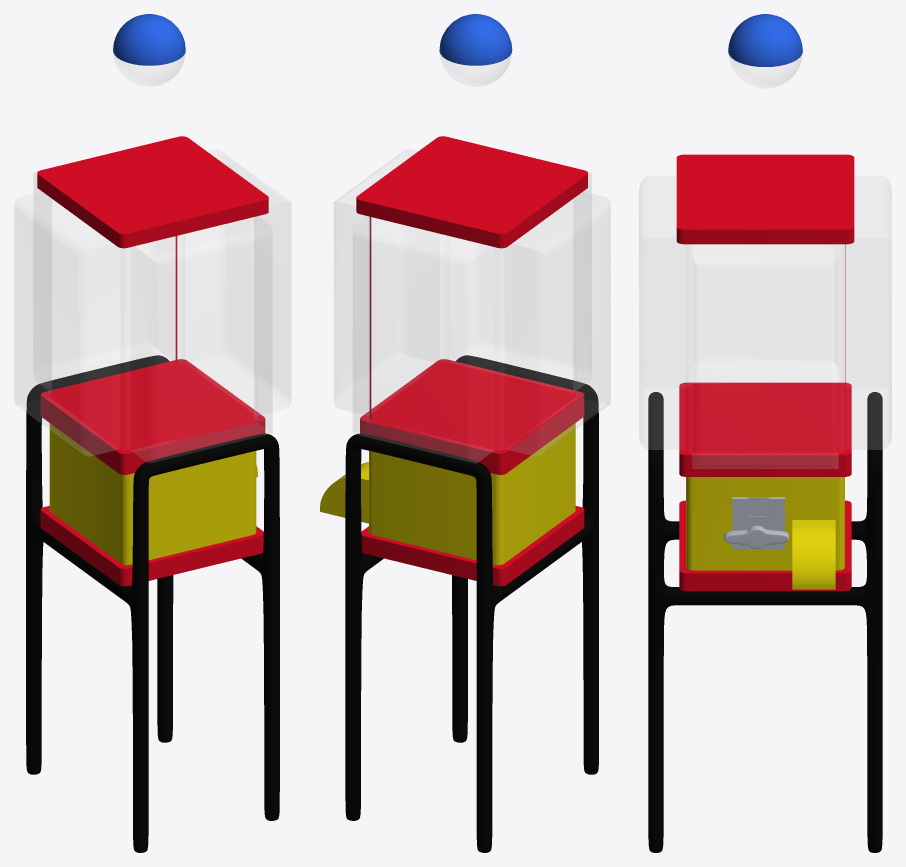
The model's file is CapsuleMeachine.fbx.
The picture shows the model from 3 angles, left to right: view 1: azimuth 30°, elevation 25°; view 2: azimuth 150°, elevation 25°; view 3: azimuth 270°, elevation 25°; orthographic projection. The views are drawn at different scales.
Parts seen in each view (by area): view 1: Cube.002, Sphere; view 2: Cube.002, Sphere; view 3: Cube.002, Sphere, Plane.001.
Part boxes in pixels (x1,y1,x2,y2): Cube.002: [15, 136, 290, 852]; Sphere: [113, 14, 185, 86]; Cube.002: [320, 136, 610, 852]; Sphere: [439, 14, 512, 86]; Cube.002: [639, 154, 891, 852]; Sphere: [728, 14, 802, 87]; Plane.001: [724, 525, 788, 548].
Size of the model in its own units: 46.25 by 153 by 43.94.
